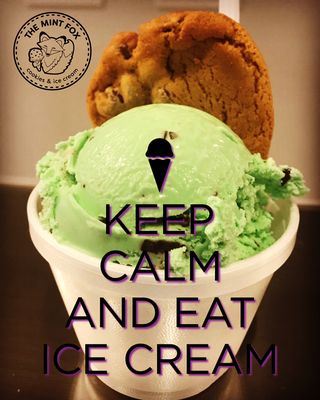sushi: (26, 99, 303, 400)
